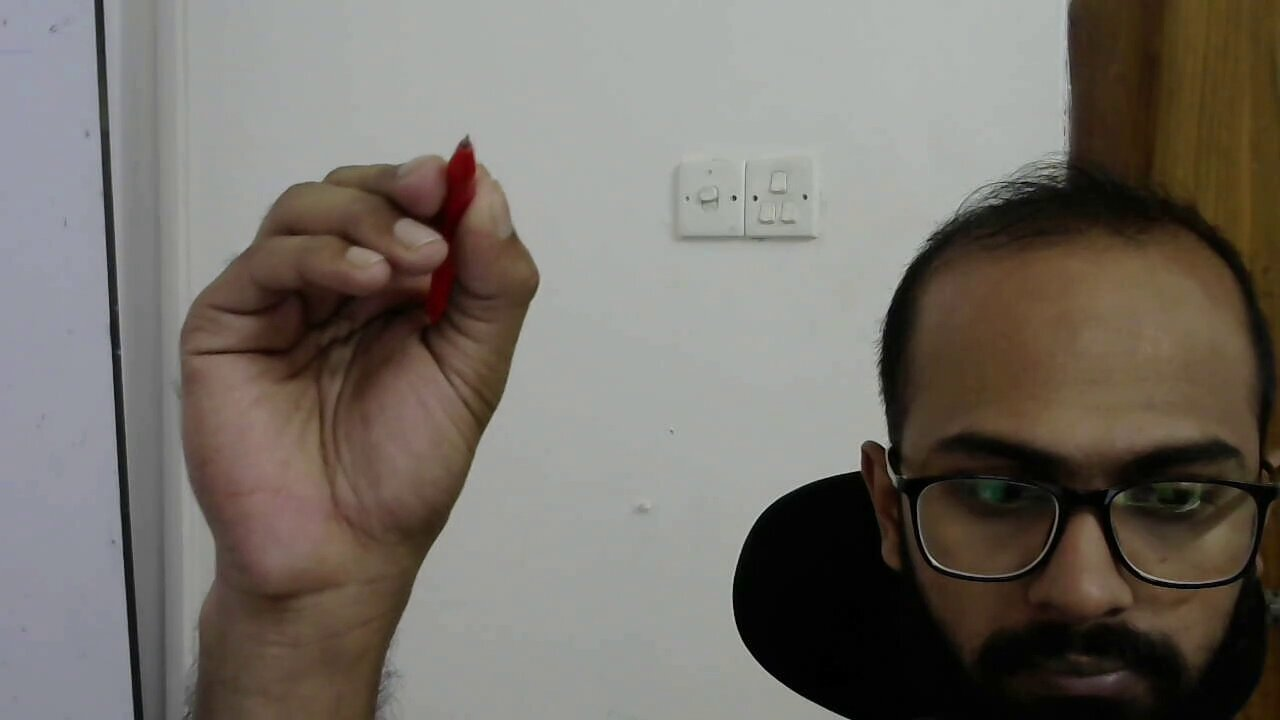pointer: (181, 146, 542, 490)
